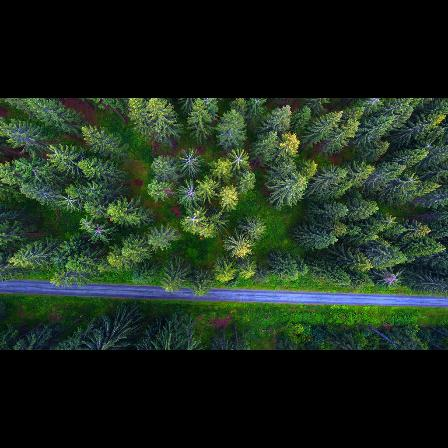Dead: (373, 266, 404, 289)
Sick: (177, 176, 206, 205), (178, 146, 203, 174), (224, 149, 252, 170), (89, 217, 112, 242), (382, 214, 399, 232)
